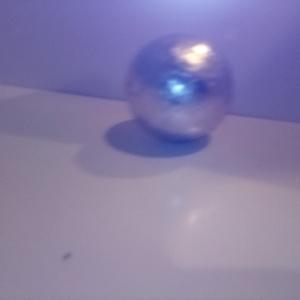alive_ball: (125, 32, 233, 143)
